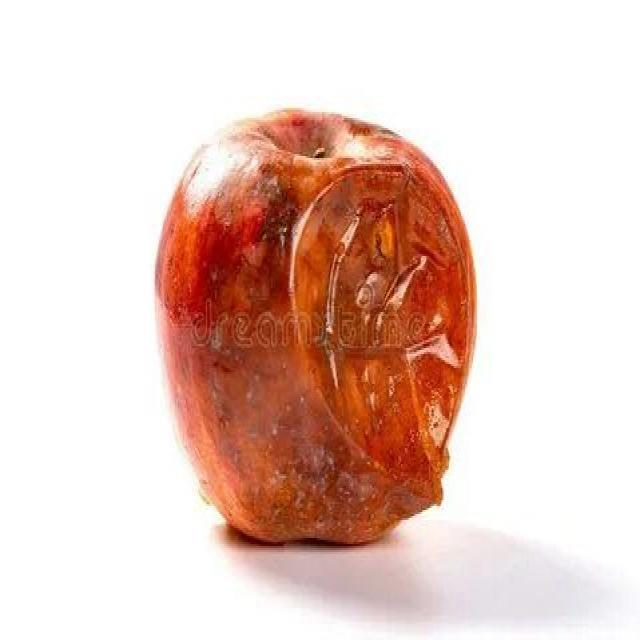Rotten: (155, 110, 462, 552)
